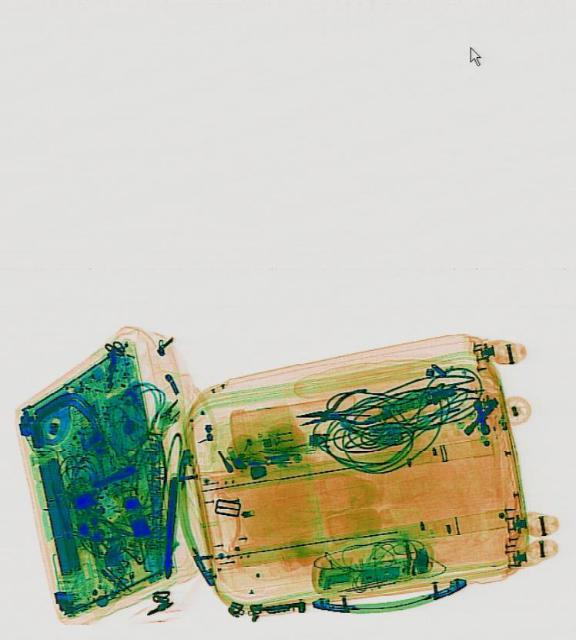Pliers: (290, 384, 372, 438)
